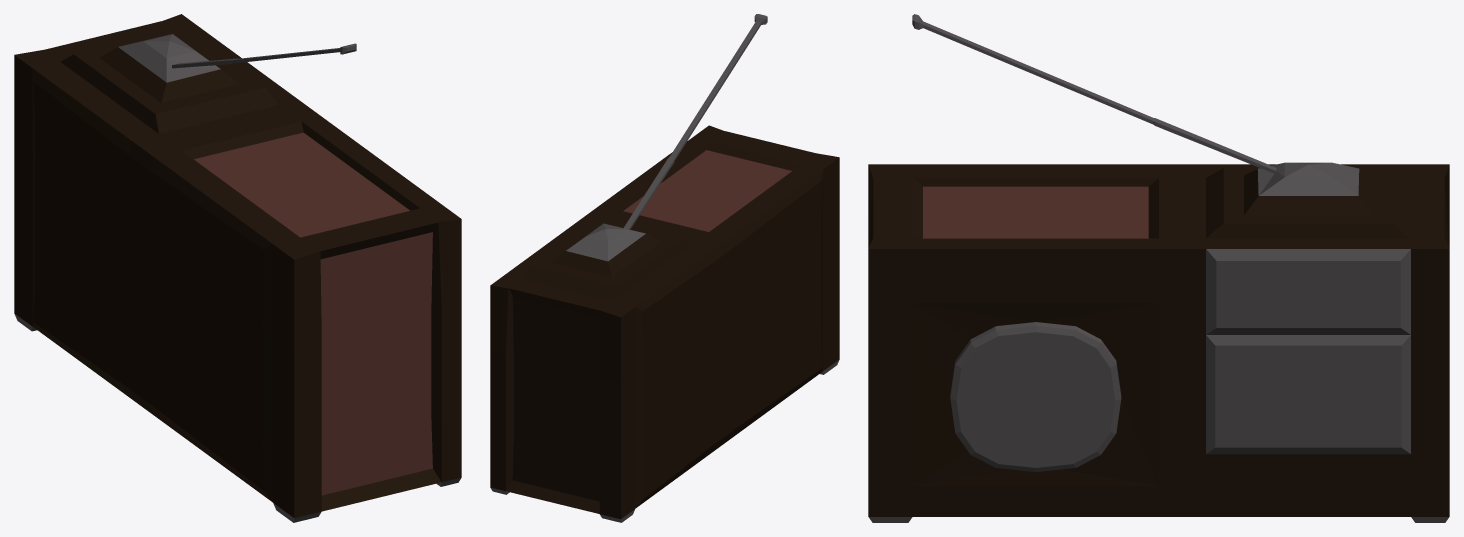
File: m_Radio_typeA.fbx
3 views of the same model, side by side, from view 1: azimuth 30°, elevation 25°; view 2: azimuth 150°, elevation 25°; view 3: azimuth 270°, elevation 25° (orthographic). The views are drawn at different scales.
Visible parts, largest first — view 1: radio; view 2: radio; view 3: radio.
Part boxes in pixels (left/top/right/bottom): radio: left=14, top=14, right=461, bottom=522; radio: left=490, top=14, right=839, bottom=522; radio: left=868, top=14, right=1449, bottom=522.
Size of the model in its own units: 16.3 by 37.96 by 43.42.
Materials: 1 (1 with a texture image).
